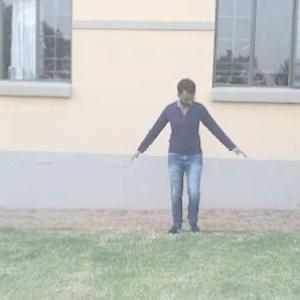land: (129, 74, 252, 236)
